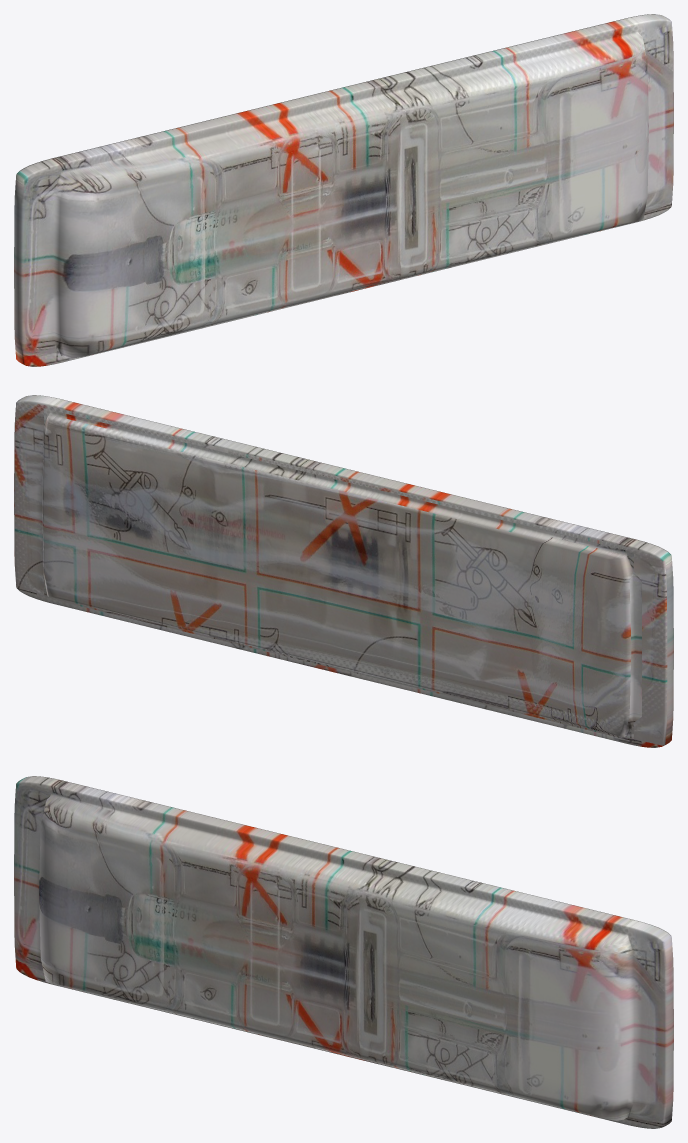
File: 20171109GOPHDRGPT12173.fbx
The picture shows the model from 3 angles, top to bottom: view 1: azimuth 30°, elevation 25°; view 2: azimuth 150°, elevation 25°; view 3: azimuth 330°, elevation 25°; orthographic projection.
Parts seen in each view (by area): view 1: Cube; view 2: Cube; view 3: Cube.
Boxes of the visible parts, x1=… form: Cube: x1=14, y1=14, x2=673, y2=366; Cube: x1=14, y1=395, x2=673, y2=747; Cube: x1=14, y1=776, x2=673, y2=1128.
Bounding box in the file's own units: 119 × 34.68 × 9.49.
Materials: 1 (1 with a texture image).
